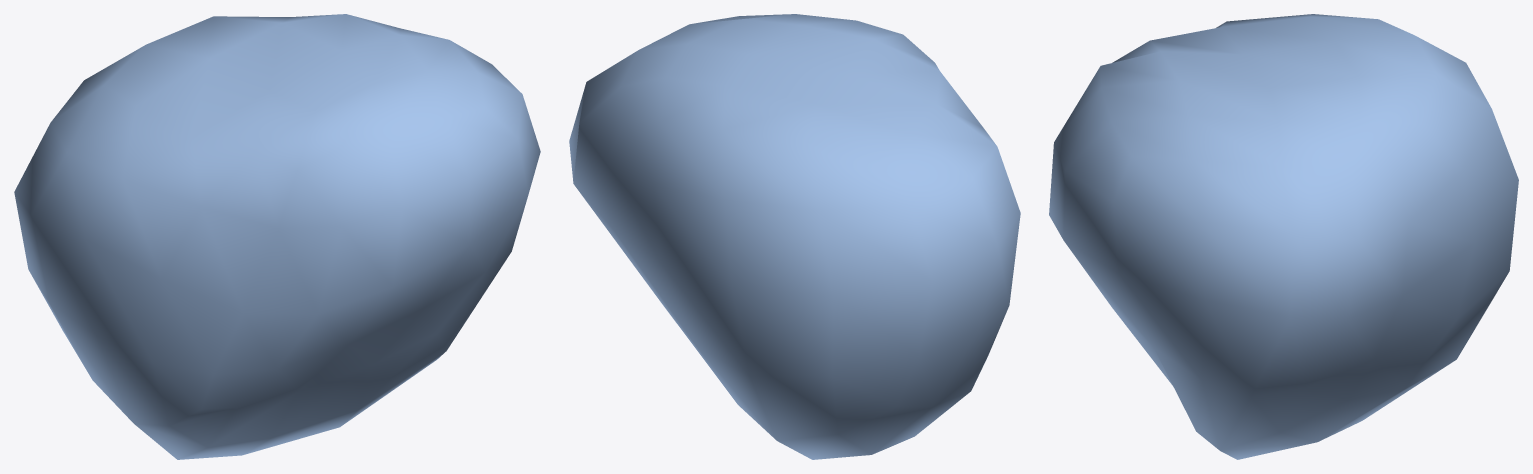
Rendered from Rock8.fbx.
3 renders of one model, left to right at view 1: azimuth 30°, elevation 25°; view 2: azimuth 150°, elevation 25°; view 3: azimuth 270°, elevation 25°, orthographic. The views are drawn at different scales.
Parts seen in each view (by area): view 1: Rock.007; view 2: Rock.007; view 3: Rock.007.
Part boxes in pixels (<box>): Rock.007: <box>14,14,540,459</box>; Rock.007: <box>569,14,1020,459</box>; Rock.007: <box>1049,14,1518,459</box>.
Bounding box in the file's own units: 43.4 × 33.74 × 35.87.
